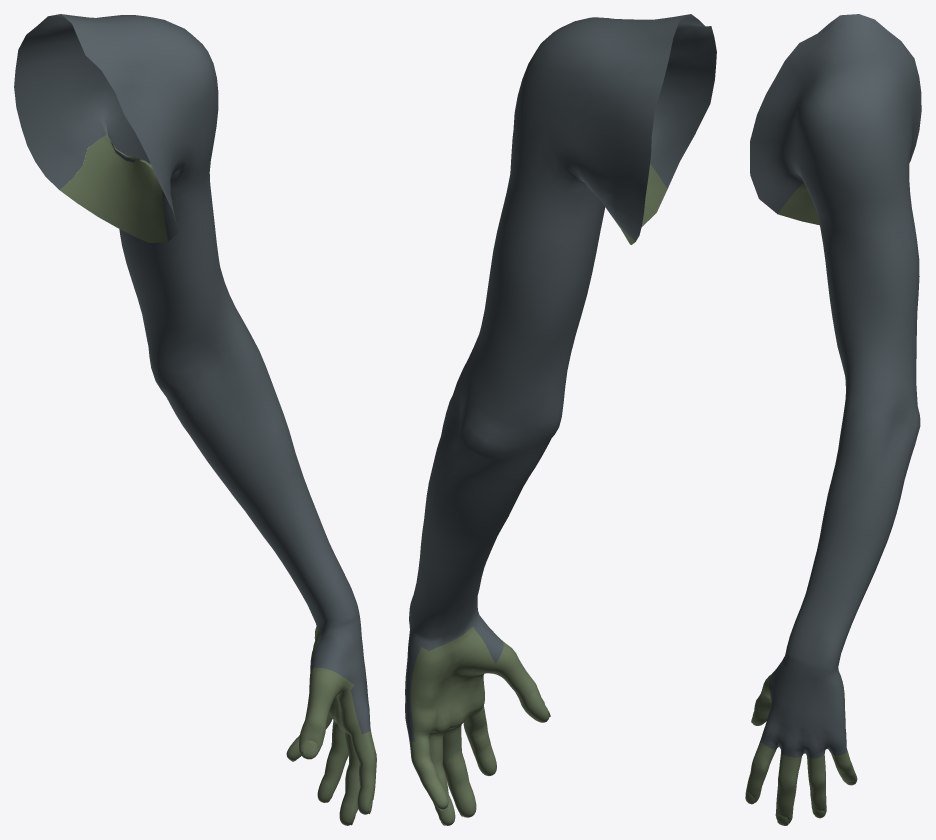
The model's file is arm_render.glb.
3 views of the same model, side by side, from view 1: azimuth 30°, elevation 25°; view 2: azimuth 150°, elevation 25°; view 3: azimuth 270°, elevation 25° (orthographic). The views are drawn at different scales.
Parts seen in each view (by area): view 1: posing; view 2: posing; view 3: posing.
Boxes of the visible parts, x1=… form: posing: x1=14, y1=14, x2=376, y2=825; posing: x1=405, y1=14, x2=716, y2=825; posing: x1=745, y1=14, x2=921, y2=825.
Size of the model in its own units: 0.2879 by 0.8166 by 0.1836.
